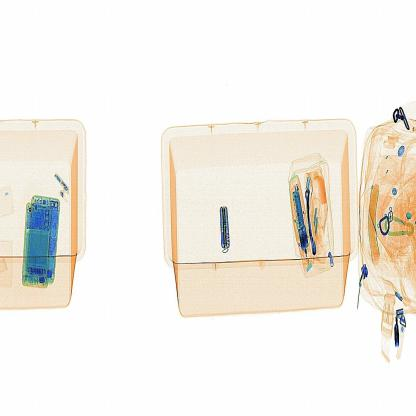scissors: (215, 200, 242, 262)
